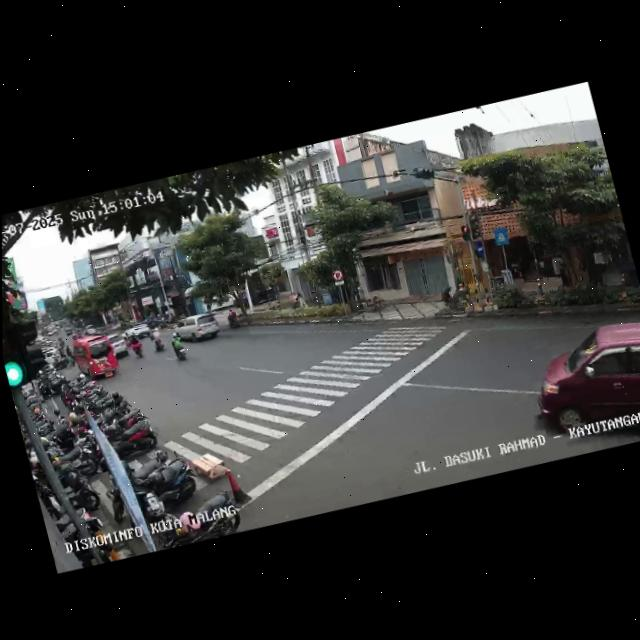car: (521, 327, 640, 462), (69, 330, 122, 386), (170, 309, 222, 350), (125, 320, 153, 343)
motorcycle: (167, 328, 190, 365), (126, 333, 145, 361), (149, 326, 166, 352)
